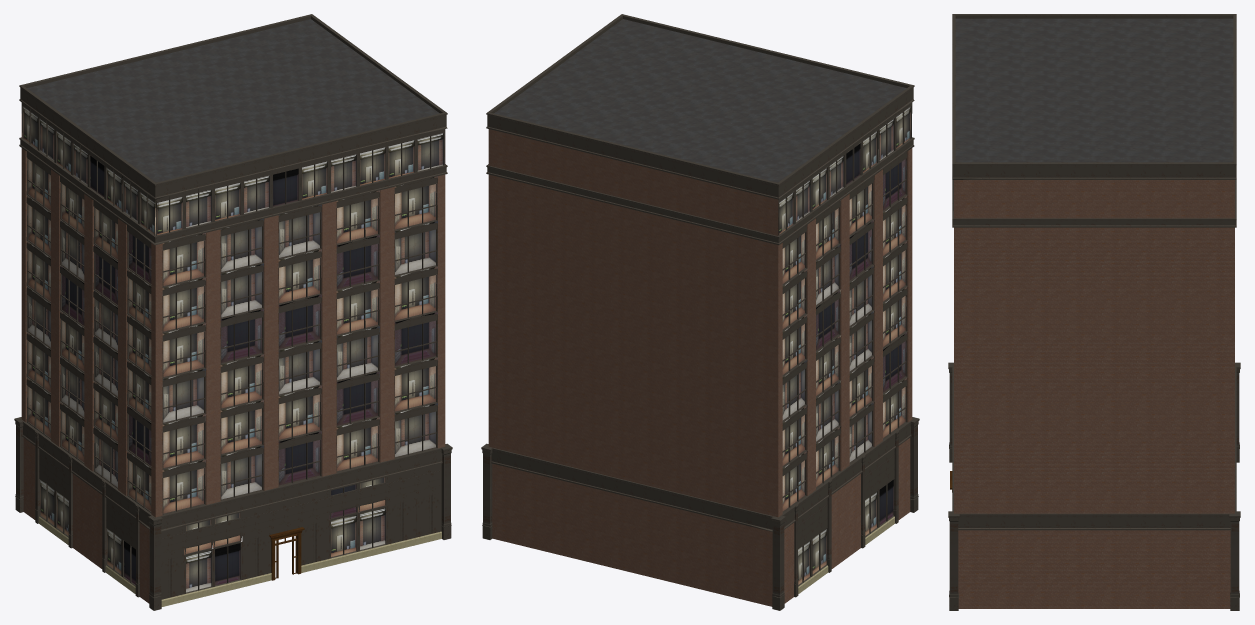
The model's file is Building_Large_2.gltf.
The picture shows the model from 3 angles, left to right: view 1: azimuth 30°, elevation 25°; view 2: azimuth 150°, elevation 25°; view 3: azimuth 270°, elevation 25°; orthographic projection. The views are drawn at different scales.
Size of the model in its own units: 20.64 by 28 by 16.64.
9 materials, 9 textured.
